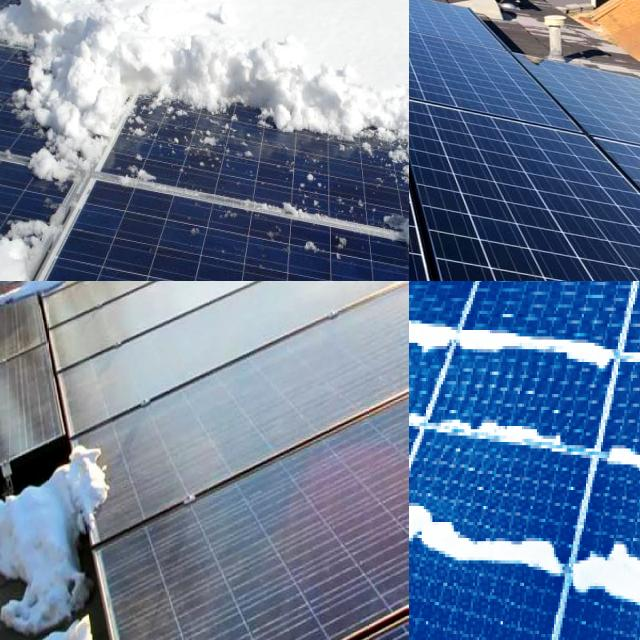crack: (409, 40, 628, 281), (409, 80, 640, 281), (409, 0, 573, 92), (409, 0, 500, 79)
panel: (409, 477, 562, 595), (0, 0, 85, 186), (465, 300, 606, 400), (98, 51, 260, 138), (277, 66, 397, 179), (436, 384, 558, 471), (409, 435, 474, 536), (409, 460, 482, 546), (5, 0, 213, 30), (409, 283, 474, 377), (409, 281, 481, 365), (584, 514, 640, 617), (409, 361, 470, 439), (0, 202, 60, 281), (76, 422, 115, 542), (409, 377, 470, 431), (23, 281, 89, 325), (608, 435, 640, 520), (0, 315, 45, 372), (0, 378, 42, 436), (0, 281, 64, 316), (409, 378, 440, 432), (0, 462, 34, 509), (409, 300, 445, 336), (614, 331, 640, 376), (0, 281, 23, 327), (409, 315, 424, 358), (409, 319, 428, 346), (409, 281, 439, 290)
